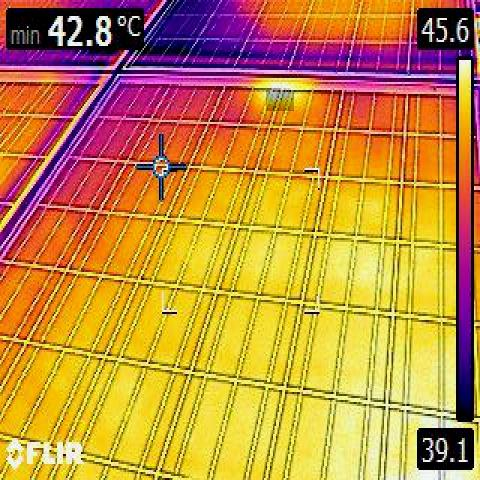fault: (266, 90, 294, 111)
